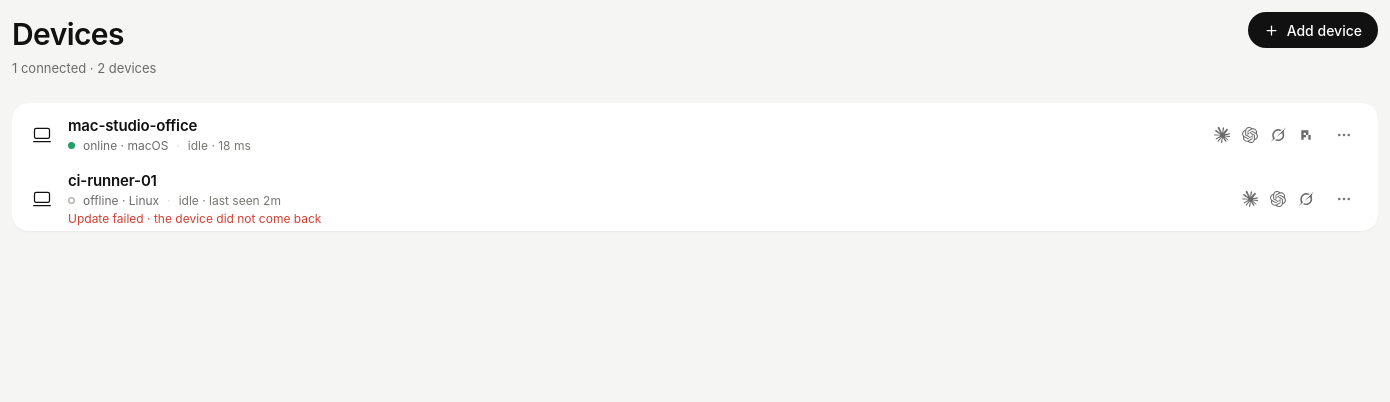
Test: the Retry update item › is disabled while the device is offline, and says why
Click the button named "Open menu" in the row of "offline". click: coordinates (1344, 198)
box: [1330,184,1358,212]
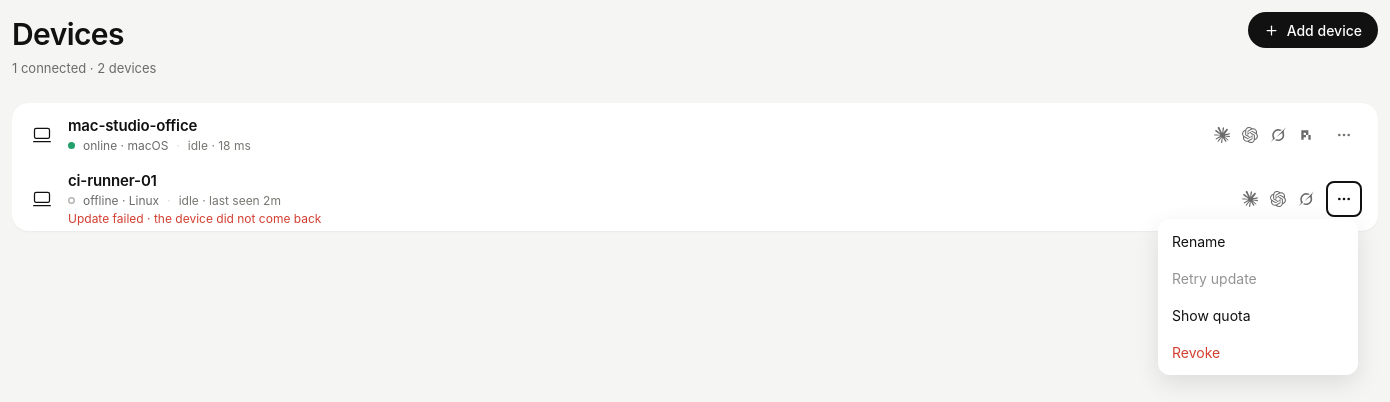
Now the menu item "Retry update" is disabled, box [1162,260,1354,297]
